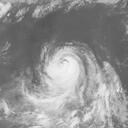cyclone: (40, 40, 89, 95)
